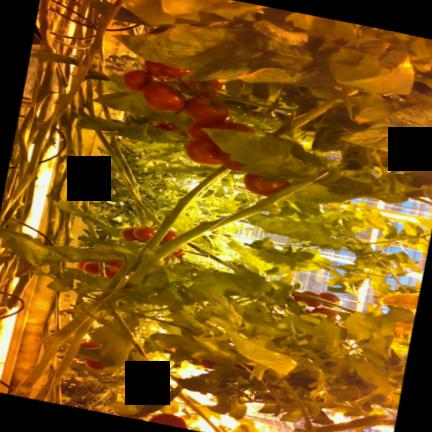MainStem: (120, 172, 326, 287), (105, 168, 229, 290), (9, 311, 89, 398), (94, 130, 161, 226), (34, 318, 94, 401), (271, 96, 341, 138), (176, 392, 223, 432), (301, 415, 396, 432), (291, 291, 353, 313), (187, 243, 236, 270), (75, 128, 88, 211)
tomato: (142, 82, 185, 112), (185, 98, 229, 125), (244, 173, 289, 196), (184, 139, 220, 165), (123, 70, 151, 92), (184, 79, 223, 93), (218, 151, 244, 171), (149, 414, 186, 428), (210, 122, 254, 133), (185, 122, 212, 139), (159, 63, 189, 78), (132, 226, 156, 242), (144, 61, 164, 78), (300, 291, 321, 307), (120, 227, 138, 241), (311, 308, 336, 318), (319, 292, 340, 303), (82, 262, 99, 275), (84, 359, 104, 370), (105, 267, 119, 279), (163, 231, 178, 241), (81, 341, 101, 348), (172, 250, 185, 259), (201, 360, 214, 369)
